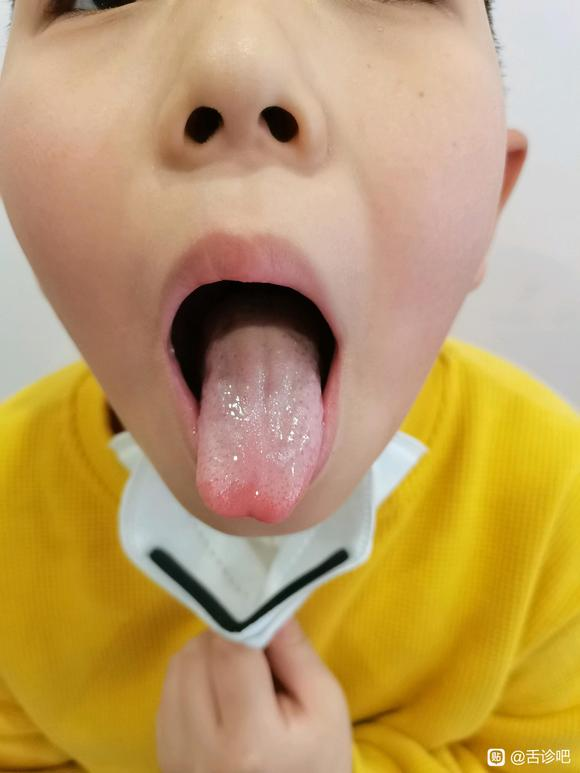hongshe: (195, 321, 322, 526)
huangtaishe: (195, 321, 322, 526)
xinfeiao: (224, 505, 270, 526)
